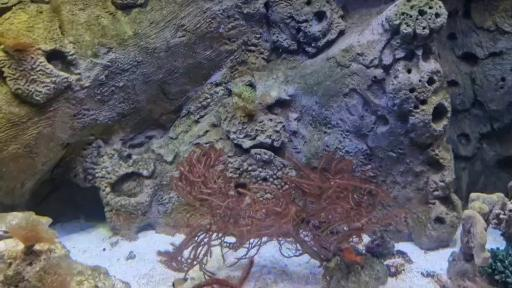Fish: (342, 247, 365, 263)
